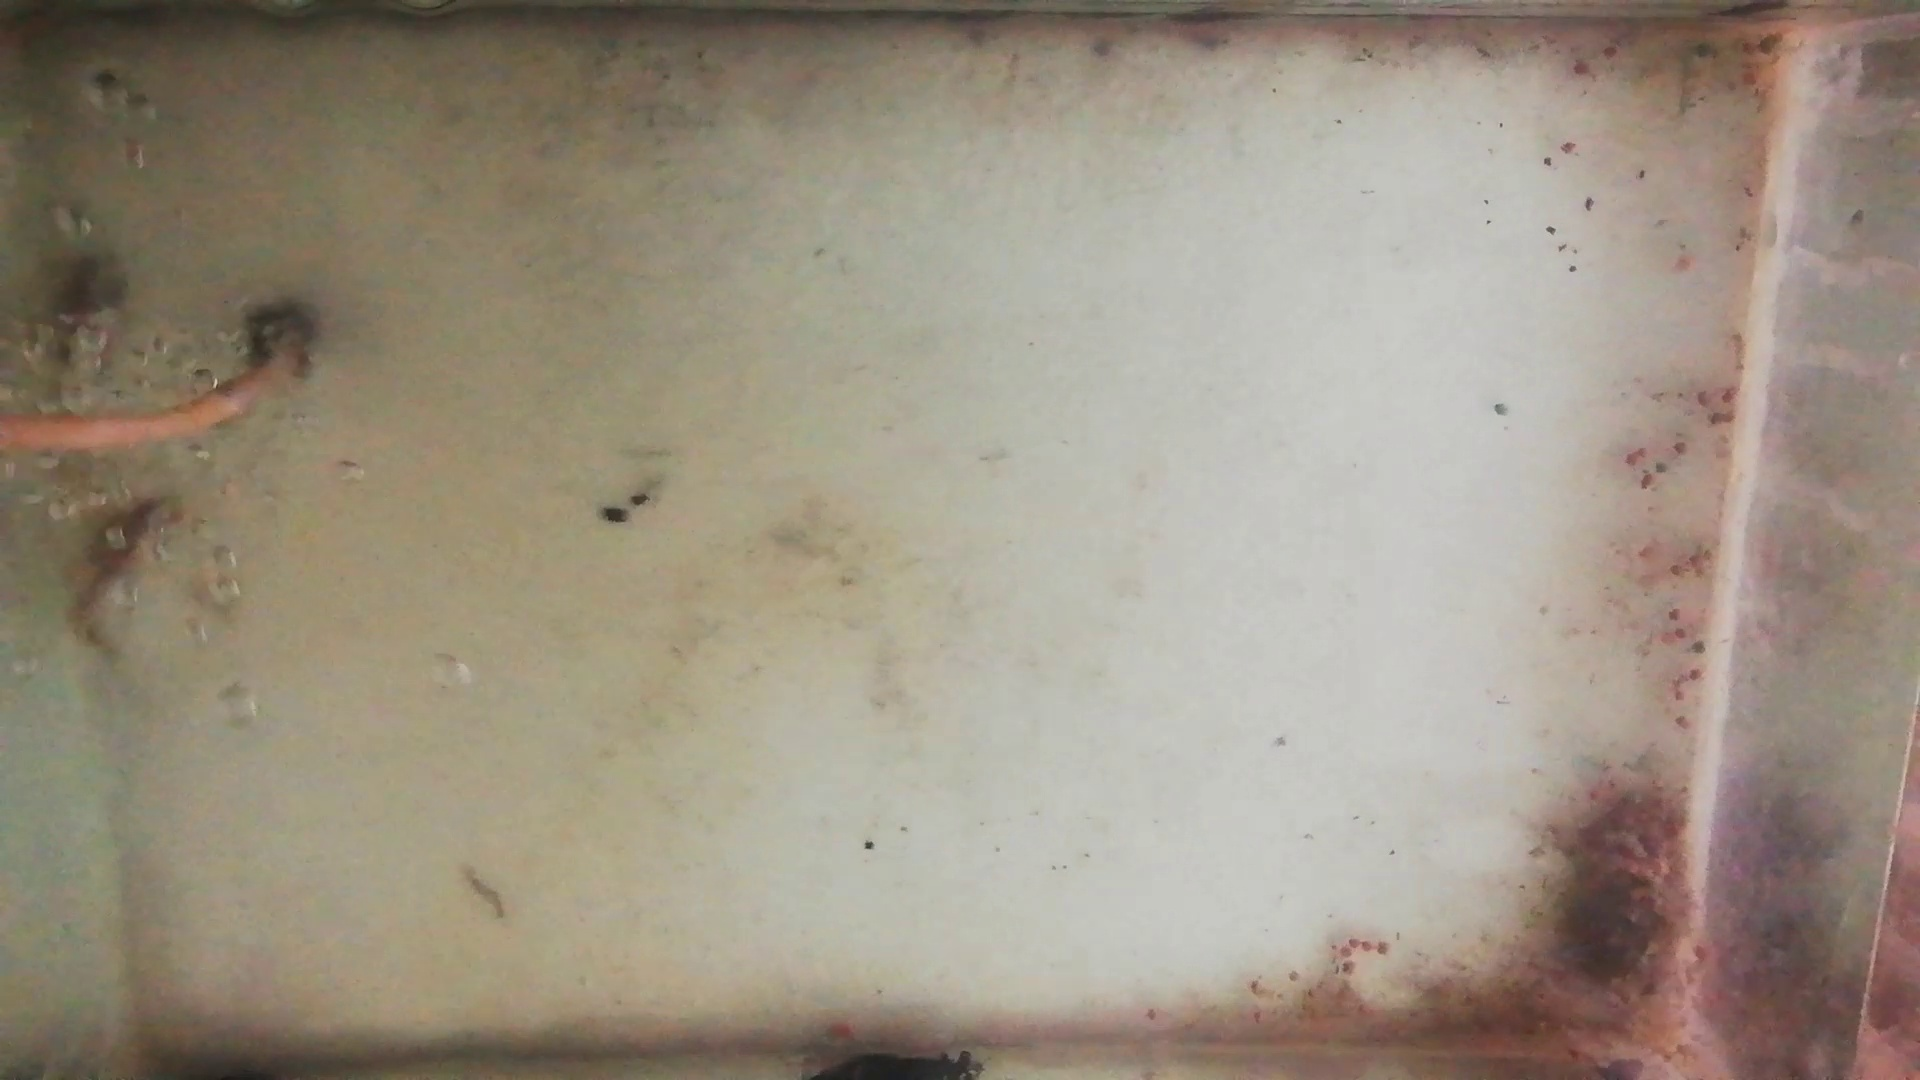fish: (67, 492, 191, 647), (46, 247, 117, 401)
